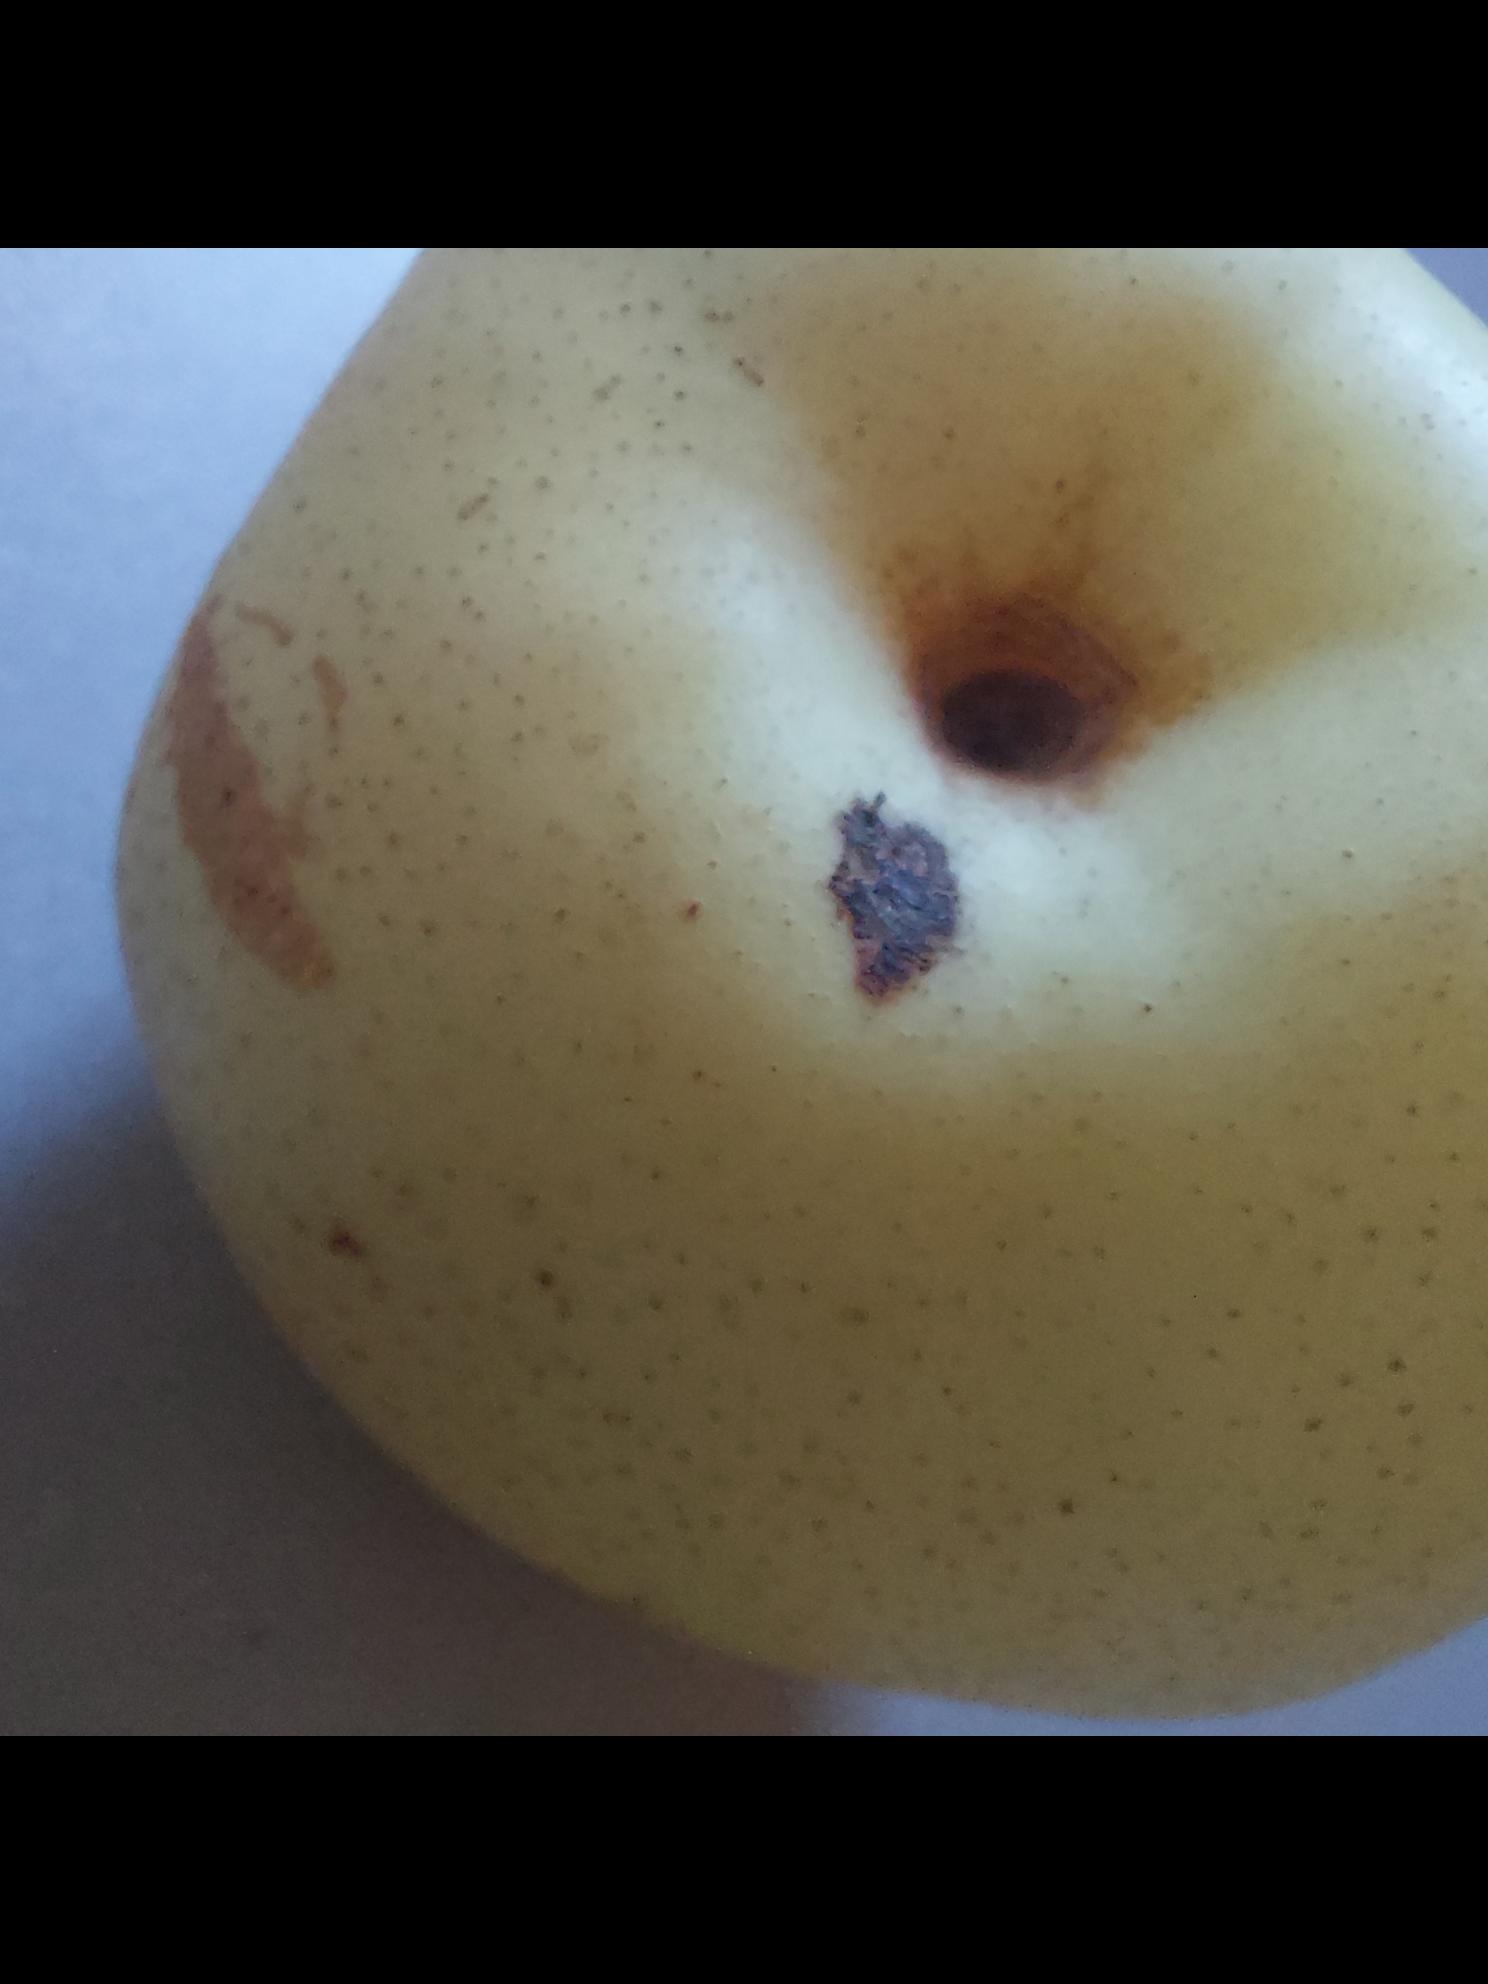Good Pear: (89, 248, 1488, 1736)
